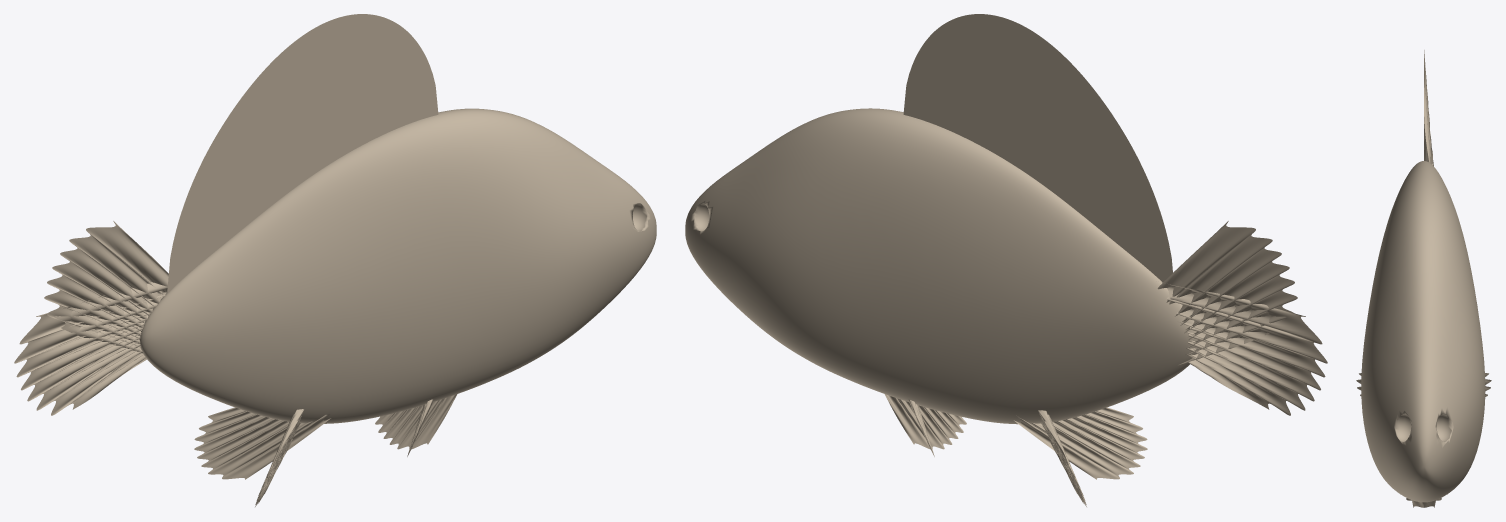
The model's file is 3dcodebench_Fish_seed0_L2_Q1__opus55.glb.
The picture shows the model from 3 angles, left to right: view 1: azimuth 30°, elevation 25°; view 2: azimuth 150°, elevation 25°; view 3: azimuth 270°, elevation 25°; orthographic projection.
Visible parts, largest first — view 1: object; view 2: object; view 3: object.
Boxes of the visible parts, x1,y1,x2,y2 form: object: (14, 14, 656, 506); object: (685, 14, 1327, 506); object: (1356, 50, 1491, 507).
Bounding box in the file's own units: 1.55 × 1.04 × 0.2828.
